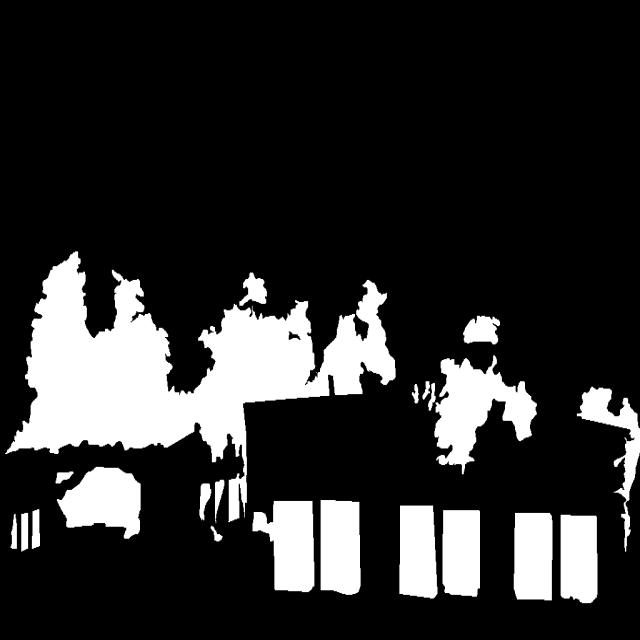fire: (0, 241, 640, 626)
